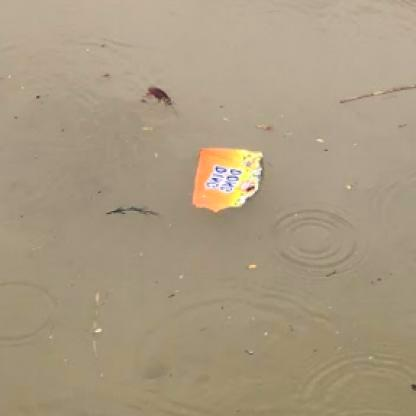Trash: (192, 144, 263, 216)
